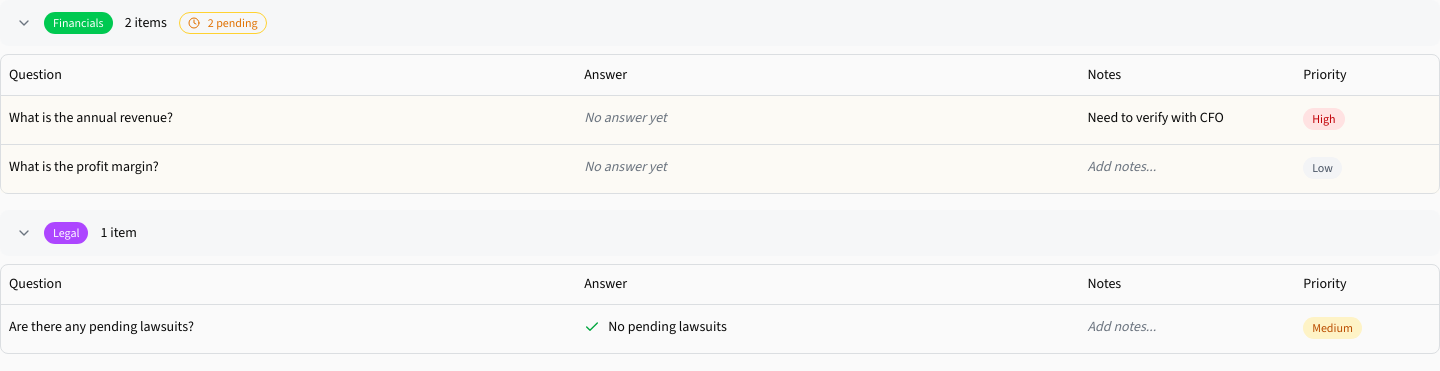
Test: QATable › collapsible sections (AC2) › should expand collapsed category when header is clicked again
The width and height of the screenshot is (1440, 371).
Click the text "Financials": x=720, y=23 [0,0,1439,46]
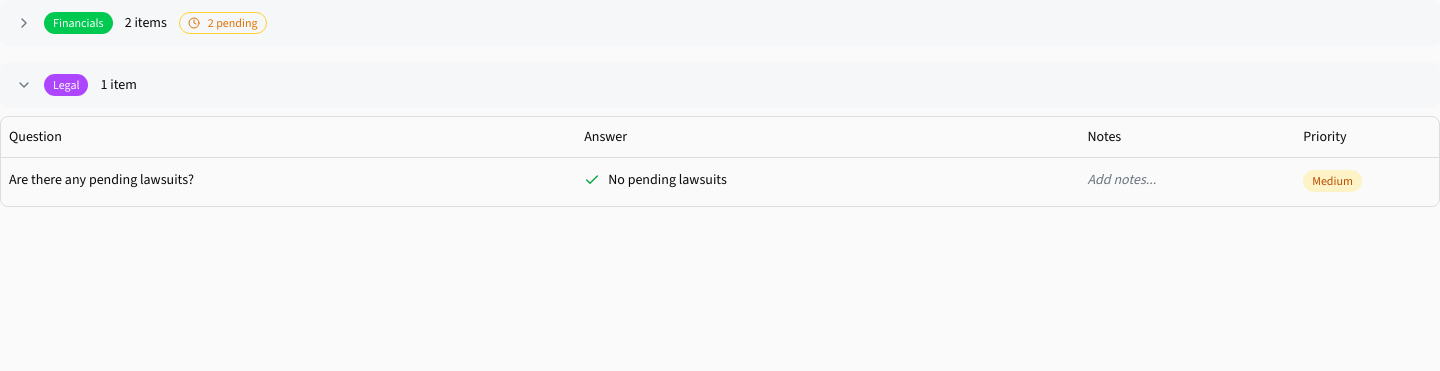
Click the text "Financials": x=720, y=23 [0,0,1439,46]
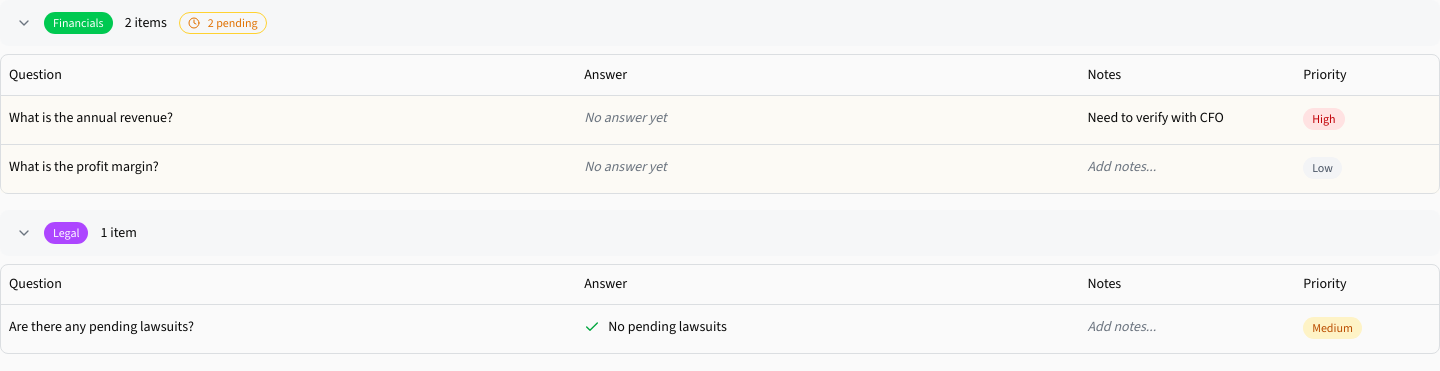
Result: the text "What is the annual revenue?" is shown at [9,108,173,128]
